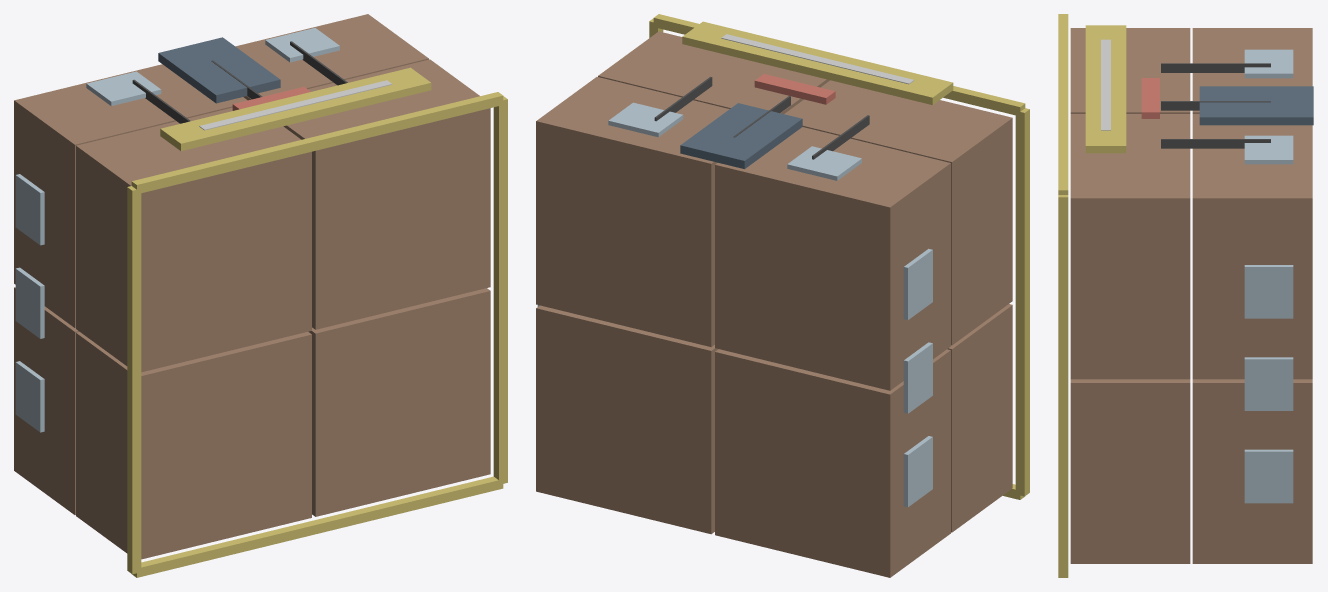
Rendered from building-pawn-shop.glb.
3 renders of one model, left to right at view 1: azimuth 30°, elevation 25°; view 2: azimuth 150°, elevation 25°; view 3: azimuth 270°, elevation 25°, orthographic.
Parts seen in each view (by area): view 1: world; view 2: world; view 3: world.
Boxes of the visible parts, box(x1,y1,x2,y2) form: world: box(14, 14, 507, 577); world: box(536, 14, 1029, 577); world: box(1058, 14, 1313, 577).
Bounding box in the file's own units: 10.5 × 10.97 × 6.28.
